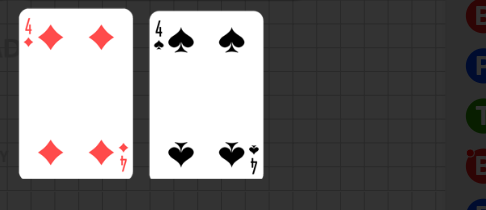4S: (152, 18, 165, 51), (247, 142, 260, 175)
